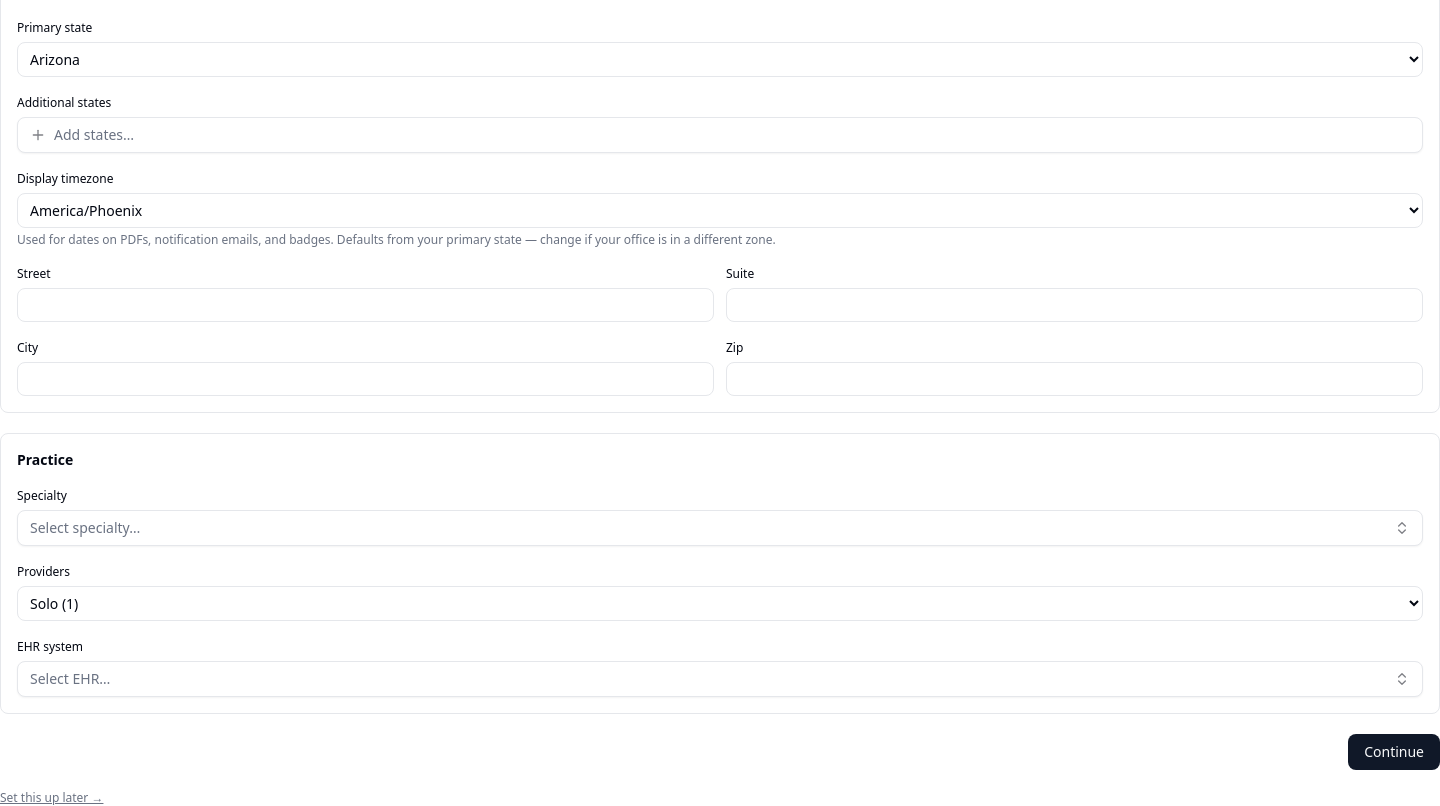
Scenario: ComplianceProfileForm — specialty-driven MACRA toggle › auto-untoggles MACRA/MIPS when a DENTAL specialty is picked
(page scrolled)
Click the dropdown labelled "Select specialty…" at coordinates (85, 528), box [17, 510, 1423, 546]
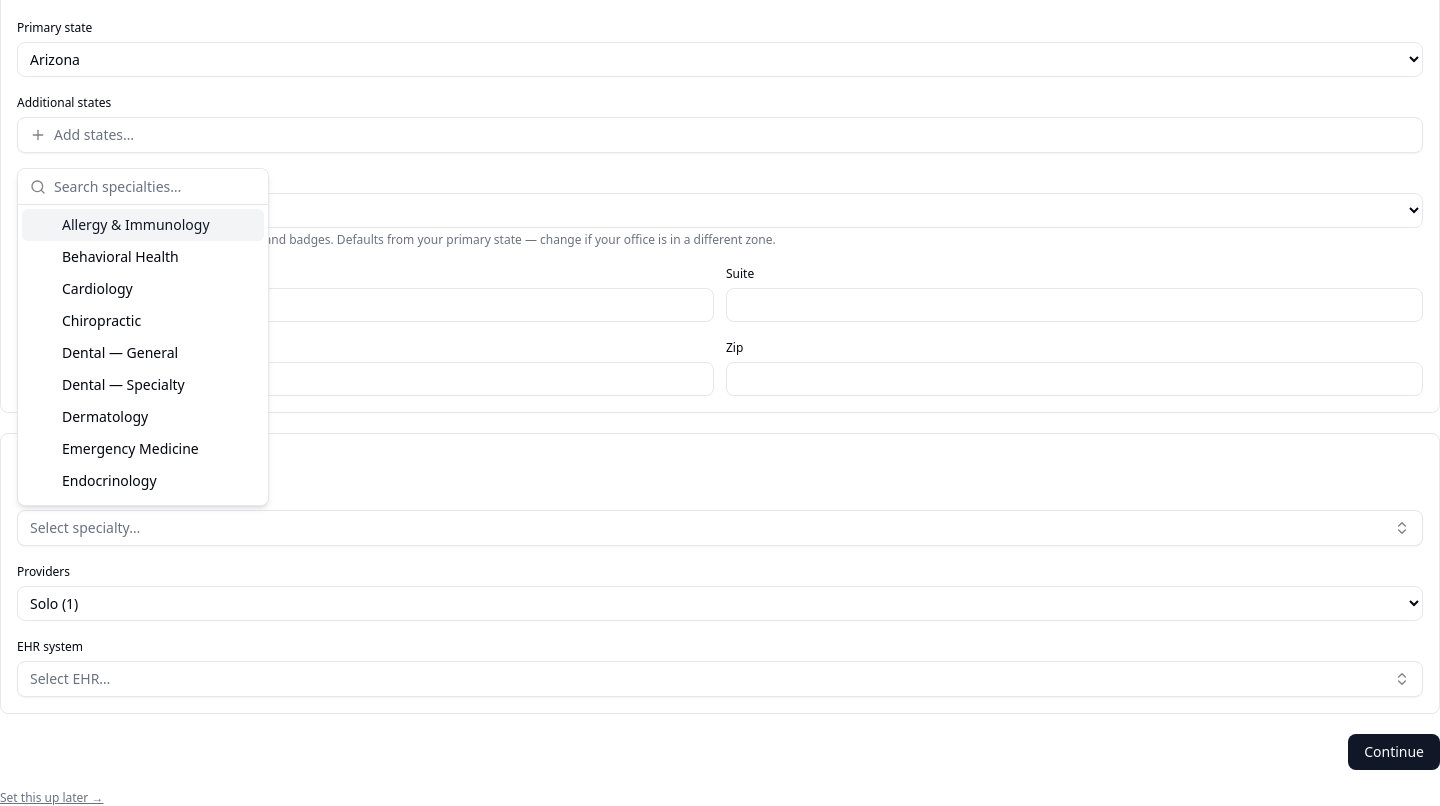
Click the option "Dental — General" at coordinates (120, 352), box [62, 343, 178, 362]
(page scrolled)
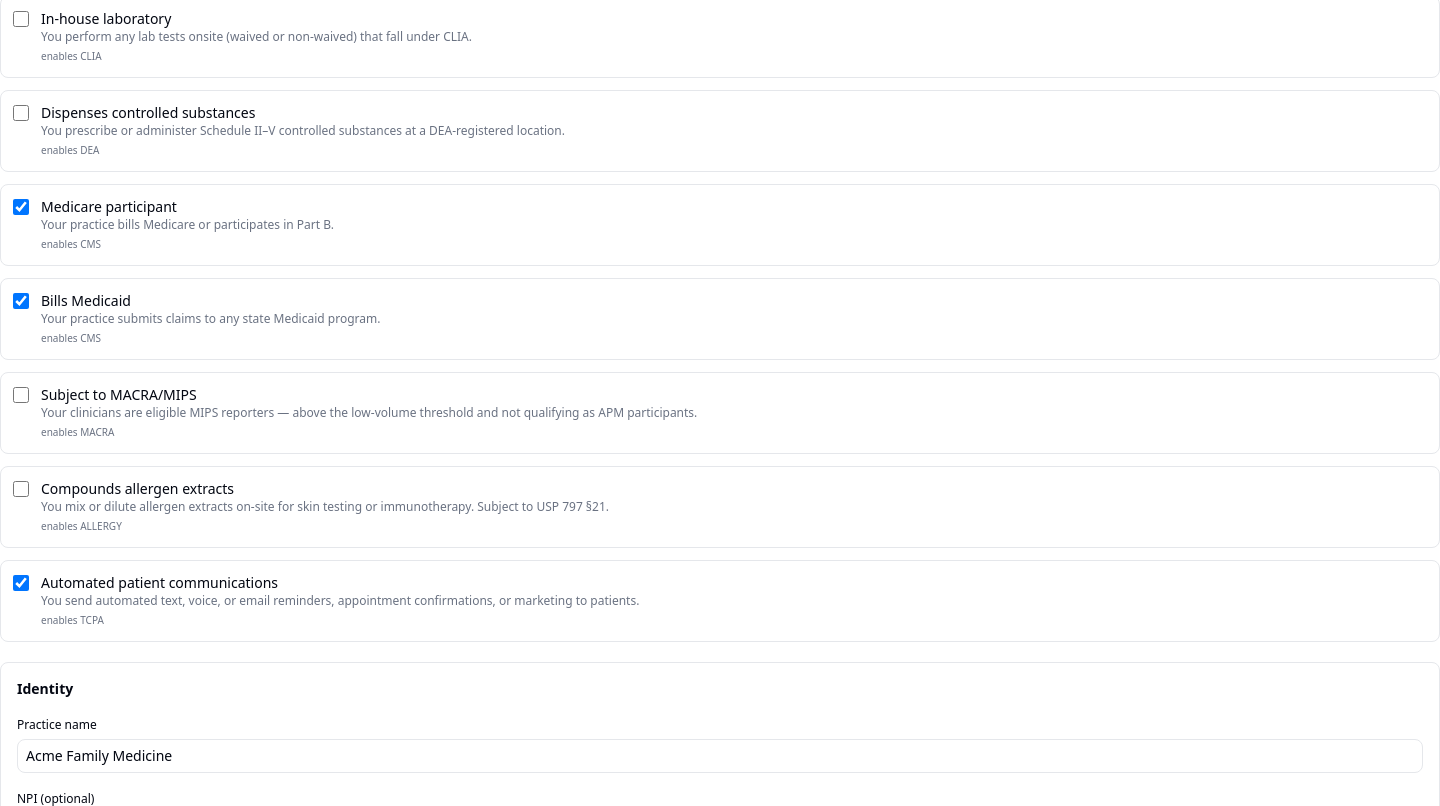
Now the checkbox labelled "Subject to MACRA/MIPS" is not checked, box [13, 387, 29, 403]
